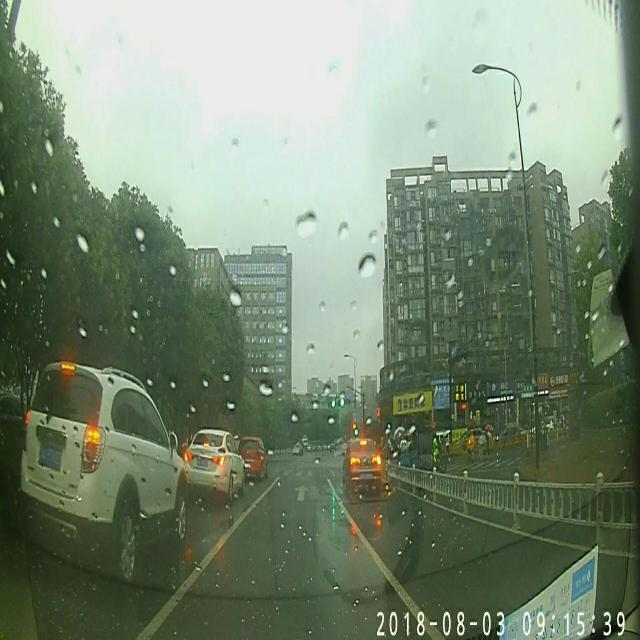car: (16, 358, 186, 576), (182, 431, 247, 504), (341, 438, 384, 496), (237, 434, 270, 479), (290, 440, 304, 454)
